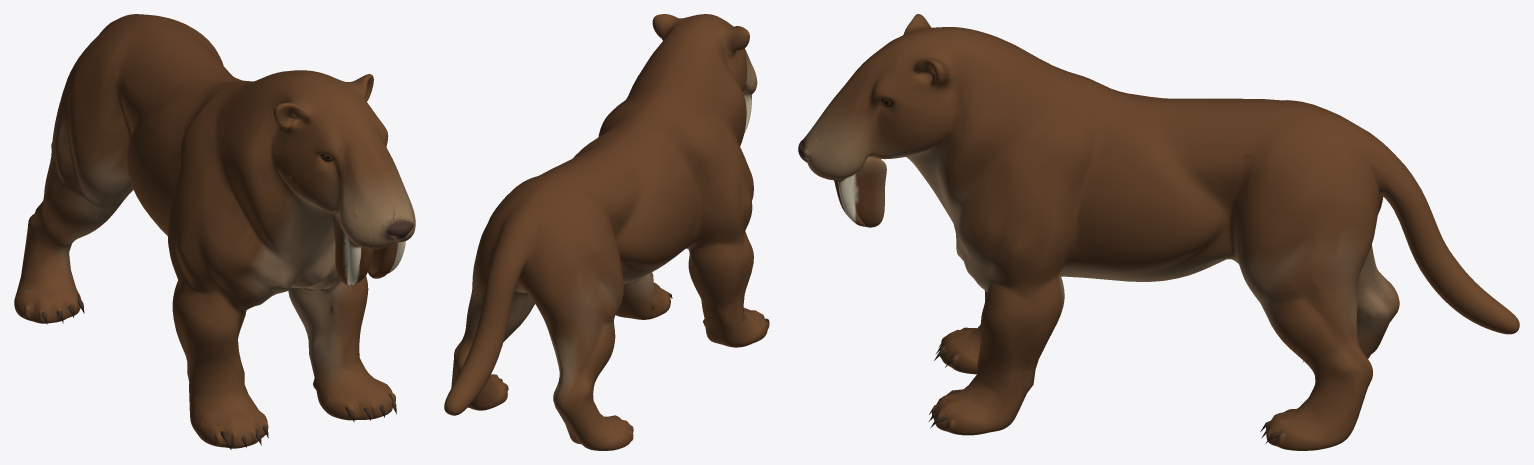
3 renders of one model, left to right at view 1: azimuth 30°, elevation 25°; view 2: azimuth 150°, elevation 25°; view 3: azimuth 270°, elevation 25°, orthographic. The views are drawn at different scales.
Visible parts, largest first — view 1: Thylacosmilus_atrox_refined, Nonretractile_claws; view 2: Thylacosmilus_atrox_refined; view 3: Thylacosmilus_atrox_refined.
Part boxes in pixels (x1,y1,x2,y2): Thylacosmilus_atrox_refined: (14,14,415,448); Nonretractile_claws: (41,293,396,449); Thylacosmilus_atrox_refined: (444,14,769,450); Thylacosmilus_atrox_refined: (798,14,1519,450).
Bounding box in the file's own units: 0.3669 × 0.5543 × 1.
